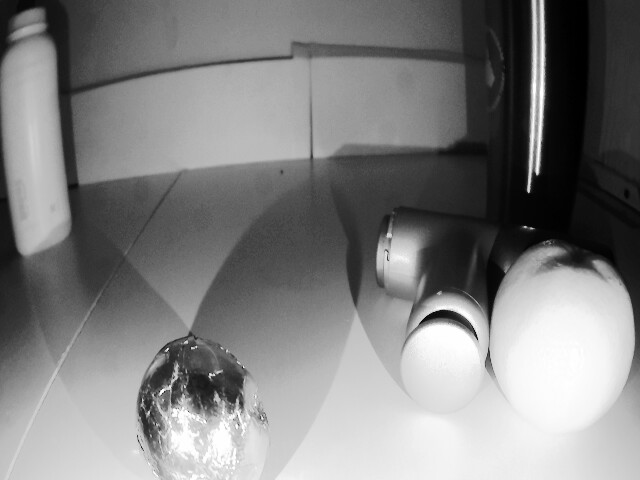silver: (126, 341, 275, 480)
